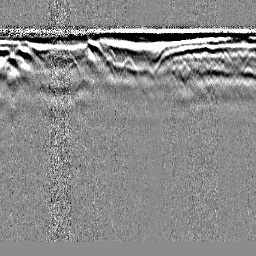cavity: (119, 55, 138, 76)
